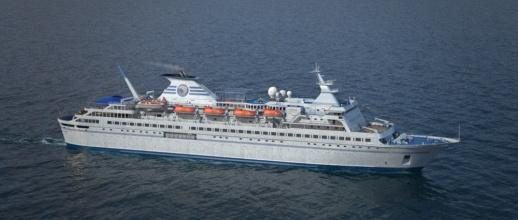youlun: (55, 64, 460, 170)
